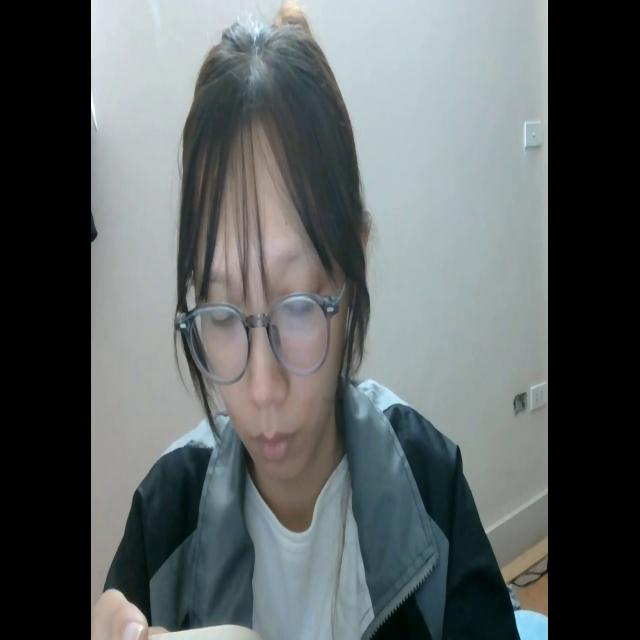student: (98, 6, 521, 640)
